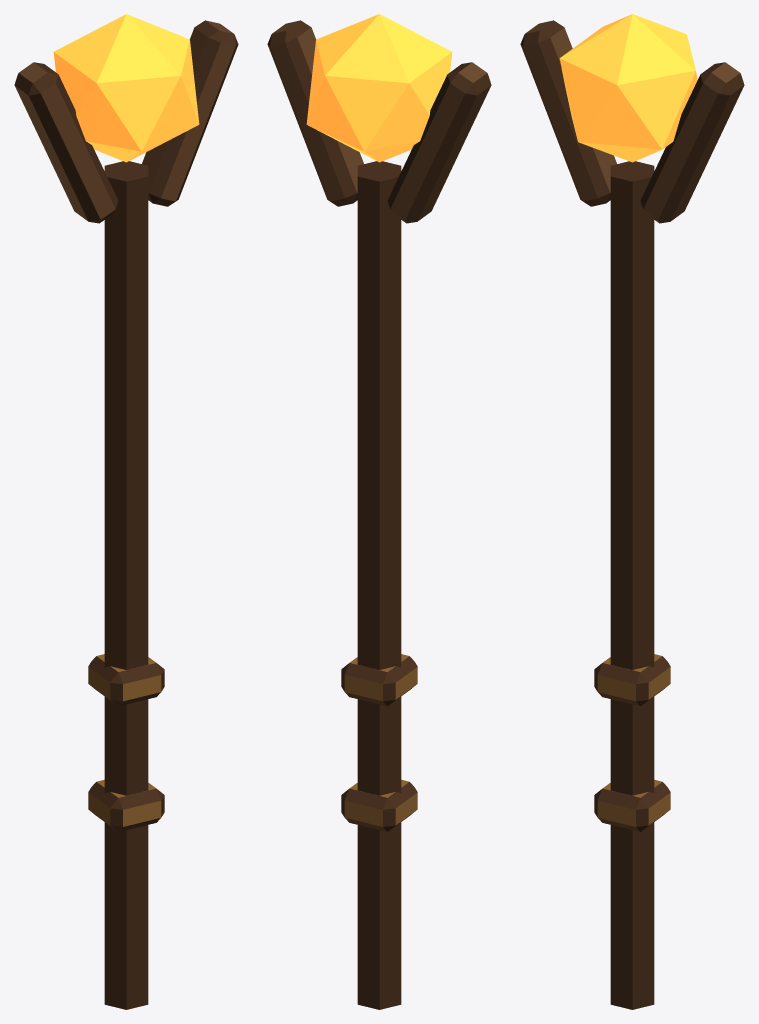
File: ember_staff.glb
3 renders of one model, left to right at view 1: azimuth 30°, elevation 25°; view 2: azimuth 150°, elevation 25°; view 3: azimuth 330°, elevation 25°, orthographic.
Parts seen in each view (by area): view 1: ember_staff; view 2: ember_staff; view 3: ember_staff.
Part boxes in pixels (x1,y1,x2,y2): ember_staff: [14, 14, 238, 1009]; ember_staff: [267, 14, 491, 1009]; ember_staff: [520, 14, 744, 1009].
Size of the model in its own units: 0.3846 by 1.72 by 0.2212.
